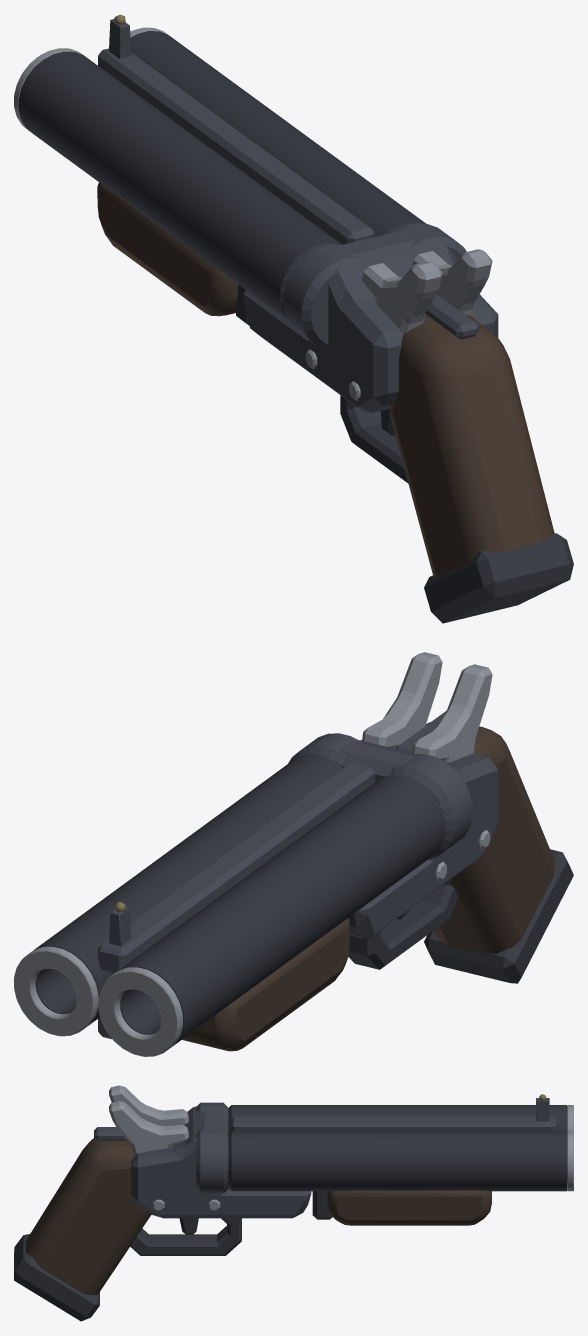
The model's file is w_sawnoff.glb.
3 views of the same model, one above another, from view 1: azimuth 30°, elevation 25°; view 2: azimuth 150°, elevation 25°; view 3: azimuth 270°, elevation 25° (orthographic). The views are drawn at different scales.
Visible parts, largest first — view 1: hinge_wzB, grip_wzA, body_wzB, hinge_wzB.001, grip_wzN, forend_wzA, hammerL_wzN, hammerR_wzN, body_wzN.001, hinge_trim_wzN; view 2: hinge_wzB, body_wzB, grip_wzA, hinge_wzB.001, hinge_trim_wzN, forend_wzA, grip_wzN, hammerL_wzN, body_wzN.001, hammerR_wzN; view 3: hinge_wzB, grip_wzA, body_wzB, forend_wzA, hinge_wzB.001, body_wzN.001, grip_wzN, hammerR_wzN, hammerL_wzN, hinge_trim_wzN, forend_iron_wzN.
Part boxes in pixels (bbox=[...]): hinge_wzB: bbox=[18, 31, 426, 319]; grip_wzA: bbox=[389, 315, 554, 577]; body_wzB: bbox=[243, 223, 498, 412]; hinge_wzB.001: bbox=[98, 19, 374, 244]; grip_wzN: bbox=[424, 533, 573, 623]; forend_wzA: bbox=[97, 182, 237, 316]; hammerL_wzN: bbox=[362, 261, 442, 333]; hammerR_wzN: bbox=[412, 249, 492, 316]; body_wzN.001: bbox=[340, 395, 408, 483]; hinge_trim_wzN: bbox=[14, 27, 166, 130]; hinge_wzB: bbox=[34, 754, 445, 1047]; body_wzB: bbox=[288, 711, 498, 939]; grip_wzA: bbox=[425, 722, 555, 954]; hinge_wzB.001: bbox=[98, 762, 374, 1038]; hinge_trim_wzN: bbox=[14, 946, 182, 1056]; forend_wzA: bbox=[182, 917, 350, 1051]; grip_wzN: bbox=[424, 849, 573, 983]; hammerL_wzN: bbox=[412, 664, 492, 762]; body_wzN.001: bbox=[348, 882, 458, 969]; hammerR_wzN: bbox=[362, 652, 442, 748]; hinge_wzB: bbox=[228, 1105, 566, 1191]; grip_wzA: bbox=[26, 1138, 150, 1295]; body_wzB: bbox=[94, 1102, 311, 1218]; forend_wzA: bbox=[327, 1190, 491, 1225]; hinge_wzB.001: bbox=[230, 1098, 556, 1131]; body_wzN.001: bbox=[130, 1218, 241, 1255]; grip_wzN: bbox=[14, 1234, 99, 1321]; hammerR_wzN: bbox=[109, 1101, 188, 1154]; hammerL_wzN: bbox=[109, 1085, 188, 1126]; hinge_trim_wzN: bbox=[567, 1105, 573, 1191]; forend_iron_wzN: bbox=[312, 1191, 332, 1219].
Bounding box in the file's own units: 0.1095 × 0.2057 × 0.4842.
